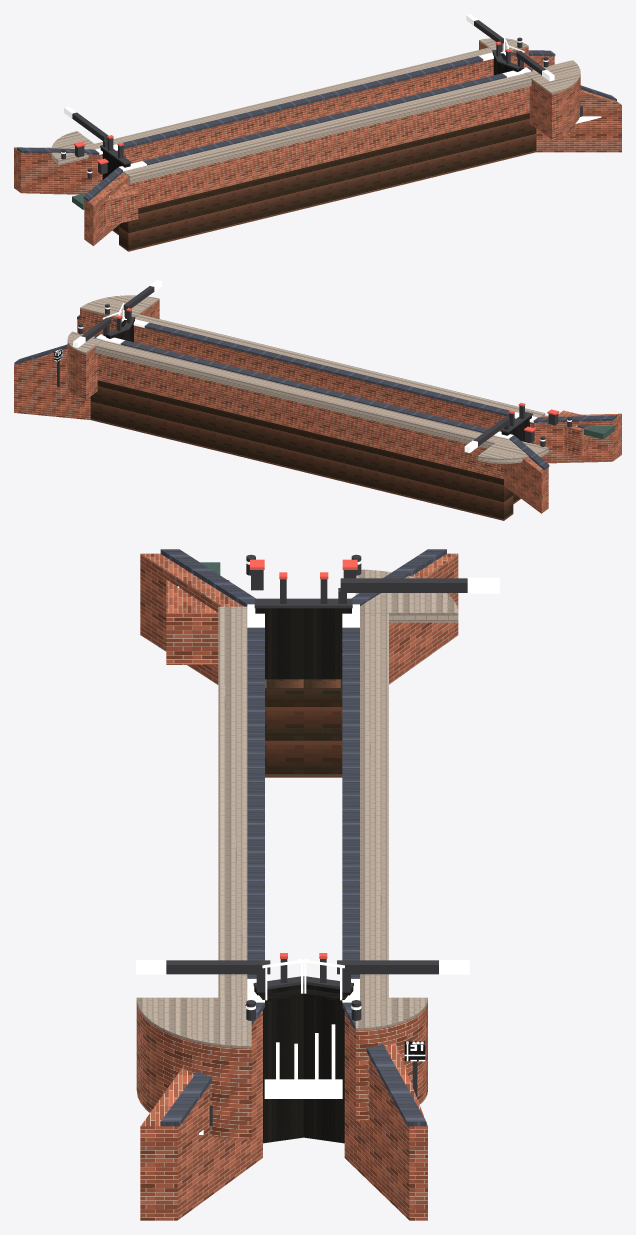
File: lock-37.glb
3 views of the same model, one above another, from view 1: azimuth 30°, elevation 25°; view 2: azimuth 150°, elevation 25°; view 3: azimuth 270°, elevation 25° (orthographic). The views are drawn at different scales.
Visible parts, largest first — view 1: Chamber, ChamberWet, Edge, Coping.001, TopGateCap, Coping, TopGate; view 2: Chamber, ChamberWet, Edge, Coping.001, TopGateCap, Coping, TopGate; view 3: Chamber, Edge, Coping.001, TopGate, TopGateCap, ChamberWet, Coping, Leak.
Boxes of the visible parts, x1,y1,x2,y2 form: Chamber: (14, 41, 621, 245); ChamberWet: (112, 112, 536, 251); Edge: (51, 38, 580, 183); Coping.001: (17, 50, 616, 201); TopGateCap: (61, 20, 582, 178); Coping: (61, 14, 554, 173); TopGate: (100, 52, 524, 179); Chamber: (14, 300, 621, 513); ChamberWet: (90, 380, 520, 520); Edge: (67, 295, 548, 463); Coping.001: (14, 315, 616, 470); TopGateCap: (57, 286, 571, 446); Coping: (73, 280, 571, 452); TopGate: (103, 319, 531, 442); Chamber: (136, 553, 458, 1220); Edge: (136, 569, 458, 1048); Coping.001: (160, 549, 446, 1126); TopGate: (254, 608, 353, 1143); TopGateCap: (166, 554, 467, 1126); ChamberWet: (265, 679, 342, 777); Coping: (136, 560, 499, 1010); Leak: (177, 586, 342, 1134).
Bounding box in the file's own units: 33 × 5.7 × 9.81.
11 materials, 8 textured.
